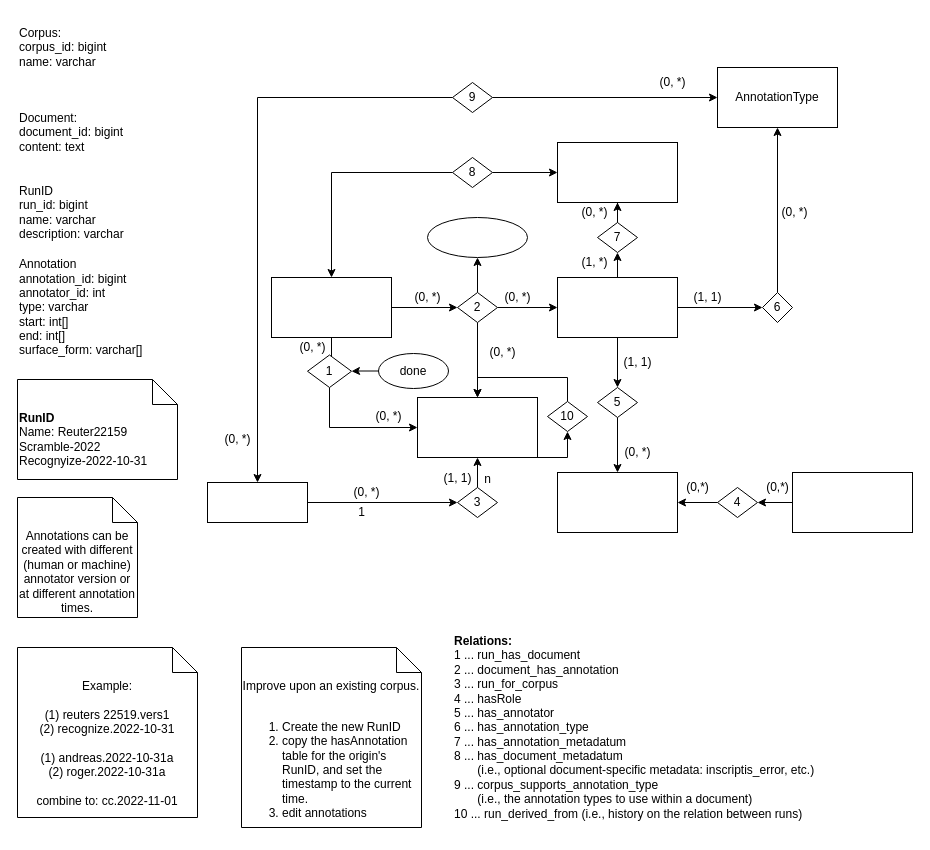
The diagram is 930 pixels wide and 850 high, and some of its shapes have lost their labels. Each missing label, with the box of its shape:
Annotation: (556, 276, 678, 338)
Annotator: (556, 472, 678, 532)
Corpus: (206, 482, 308, 522)
Document: (270, 276, 392, 338)
MetaDatum: (556, 142, 678, 202)
Role: (792, 472, 912, 532)
Run: (416, 396, 538, 458)
timestamp: (426, 216, 528, 258)
